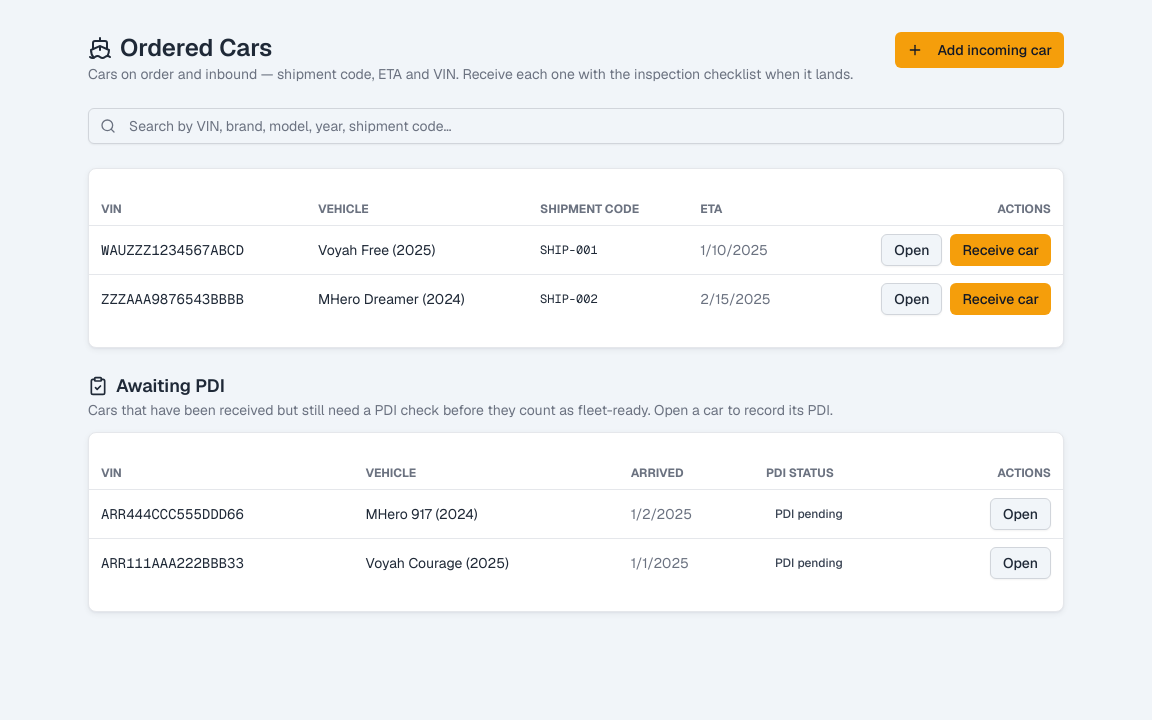
Test: OrderedCarsPage › filters both 'Cars on order' and 'Awaiting PDI' tables with one search box
Expected: the text "WAUZZZ1234567ABCD" is shown, [89, 226, 306, 274]
Expected: the text "ARR111AAA222BBB33" is shown, [89, 538, 354, 587]
Type "MHero" into the field with placeholder "Search by VIN, brand, model, year, shipment code…" at (576,126), box [88, 108, 1064, 144]
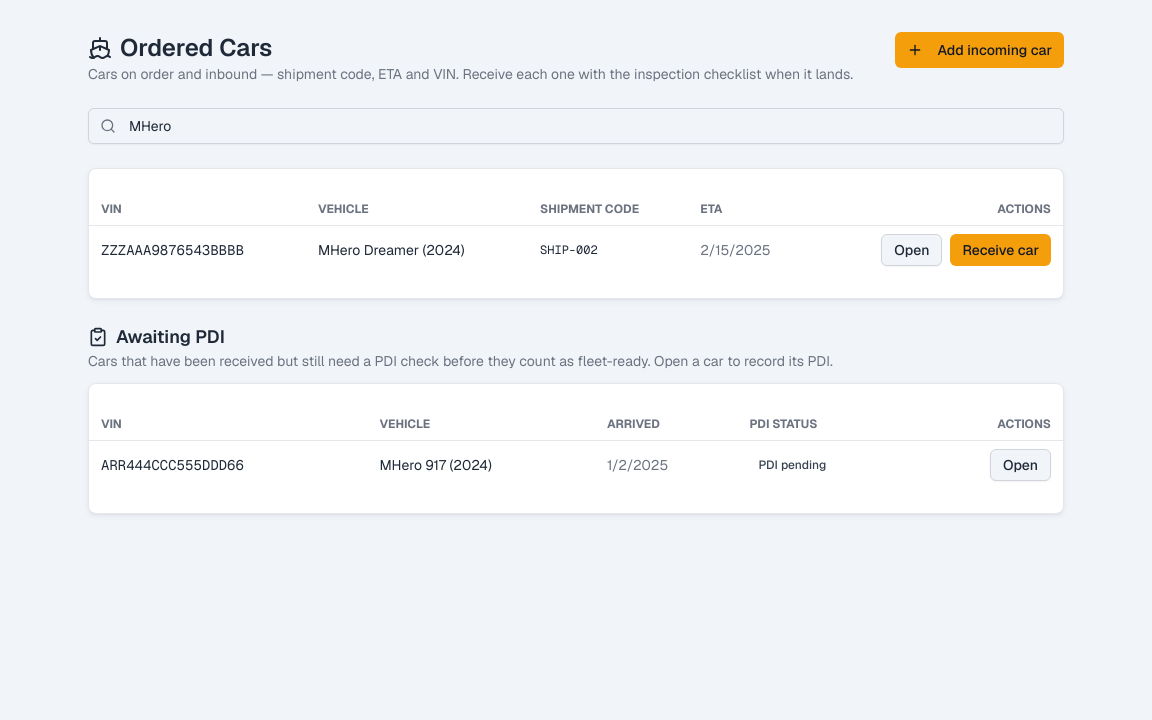
Expected: the text "ZZZAAA9876543BBBB" is shown, [89, 226, 306, 274]
Expected: the text "WAUZZZ1234567ABCD" is gone
Expected: the text "ARR111AAA222BBB33" is gone
